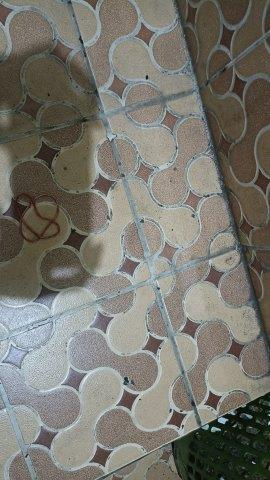karet: (15, 193, 61, 243)
